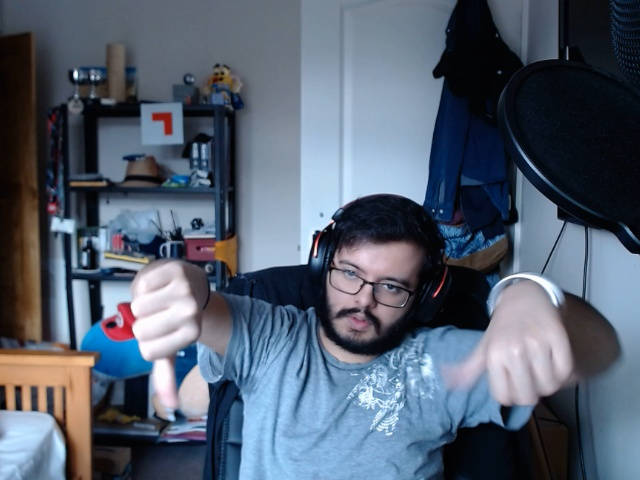Thumbs down: (128, 240, 214, 420)
